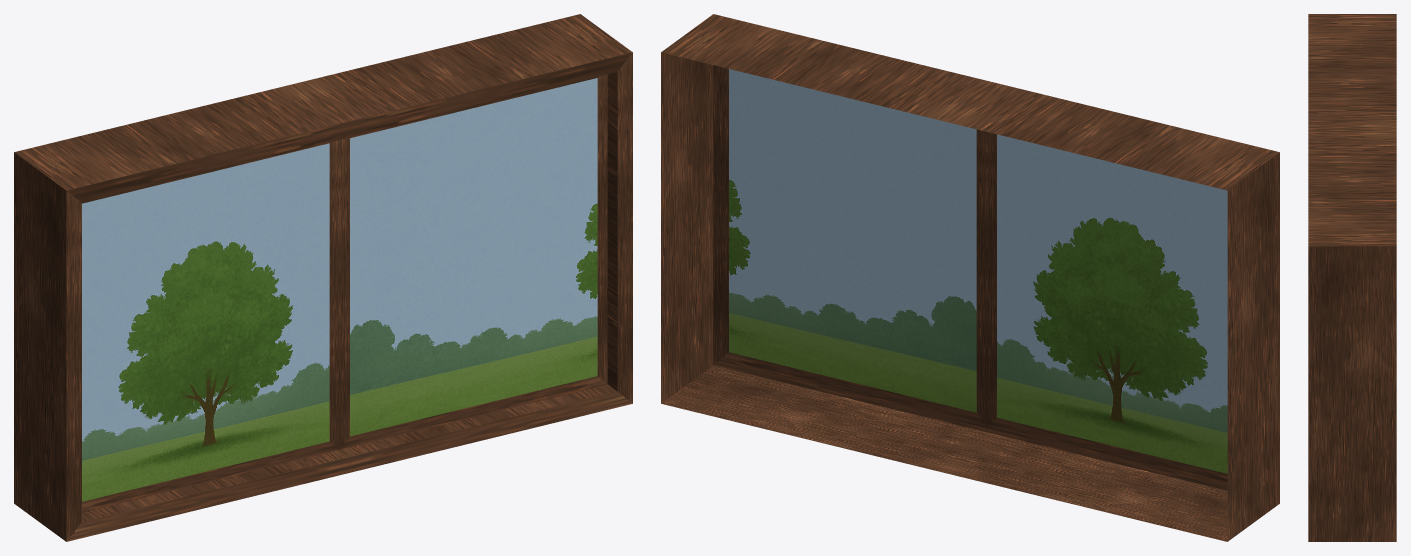
Rendered from window.fbx.
The picture shows the model from 3 angles, left to right: view 1: azimuth 30°, elevation 25°; view 2: azimuth 150°, elevation 25°; view 3: azimuth 270°, elevation 25°; orthographic projection. The views are drawn at different scales.
Visible parts, largest first — view 1: Window; view 2: Window; view 3: Window.
Part boxes in pixels (x1,y1,x2,y2): Window: (14, 14, 632, 541); Window: (661, 14, 1279, 541); Window: (1308, 14, 1396, 541).
Bounding box in the file's own units: 49.57 × 309 × 183.
